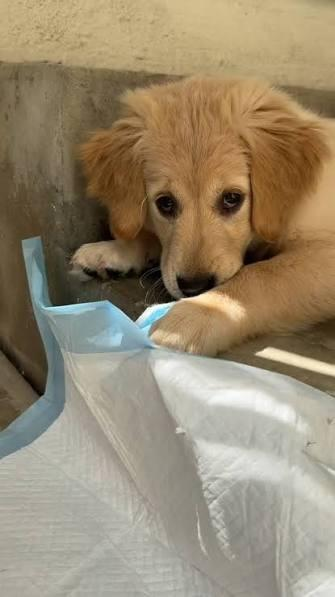puppy-dog: (68, 73, 335, 358)
